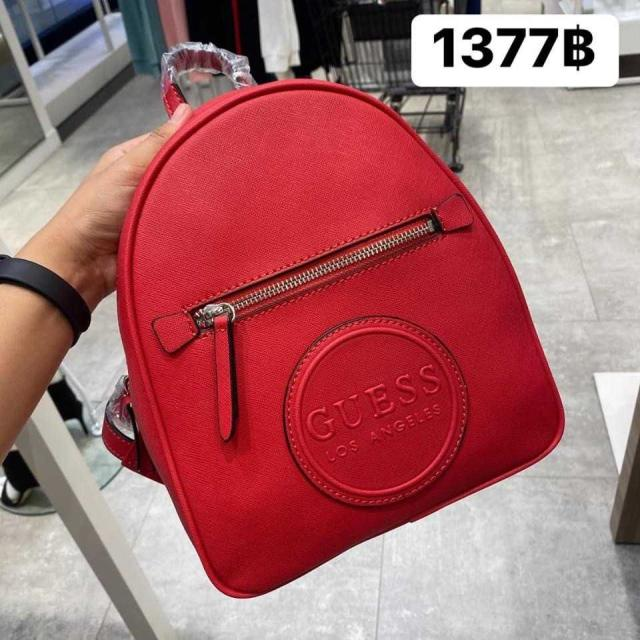handbag: (119, 79, 565, 597)
